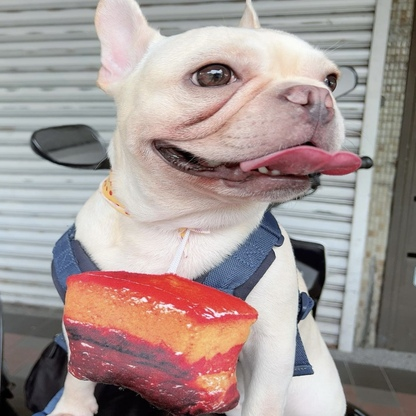bulldog: (48, 2, 362, 416)
